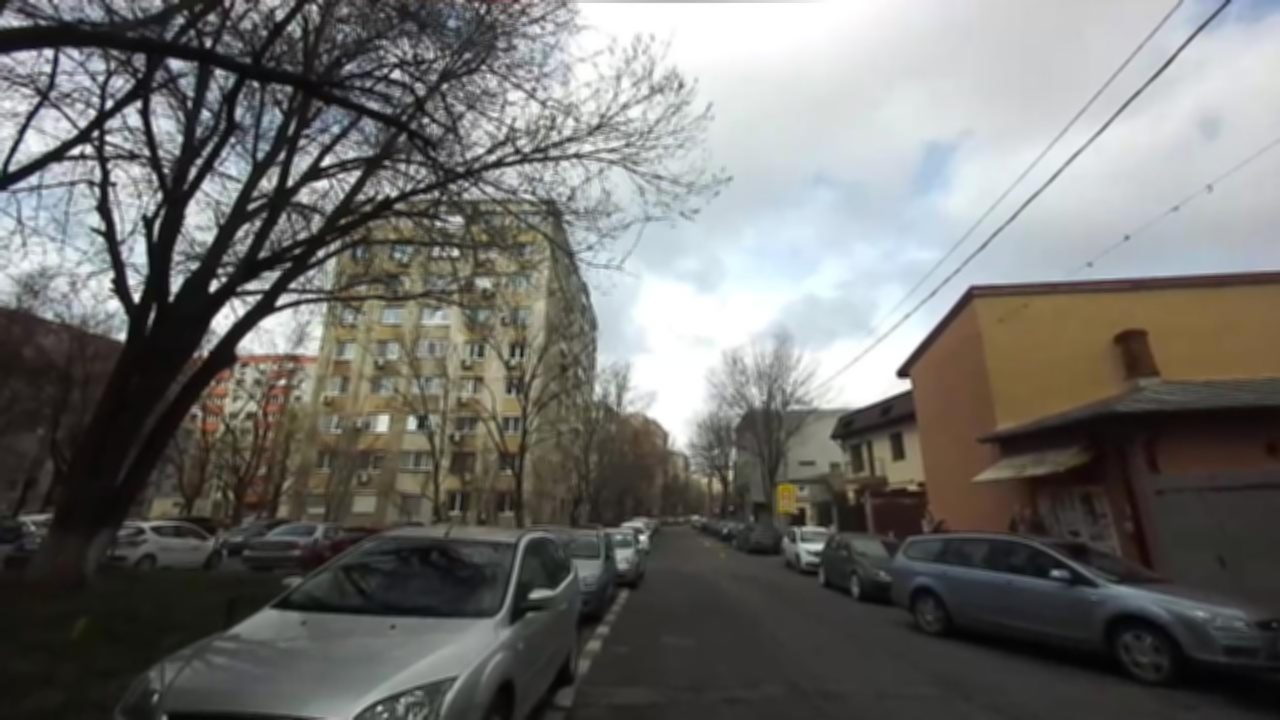pothole: (722, 690, 766, 709)
